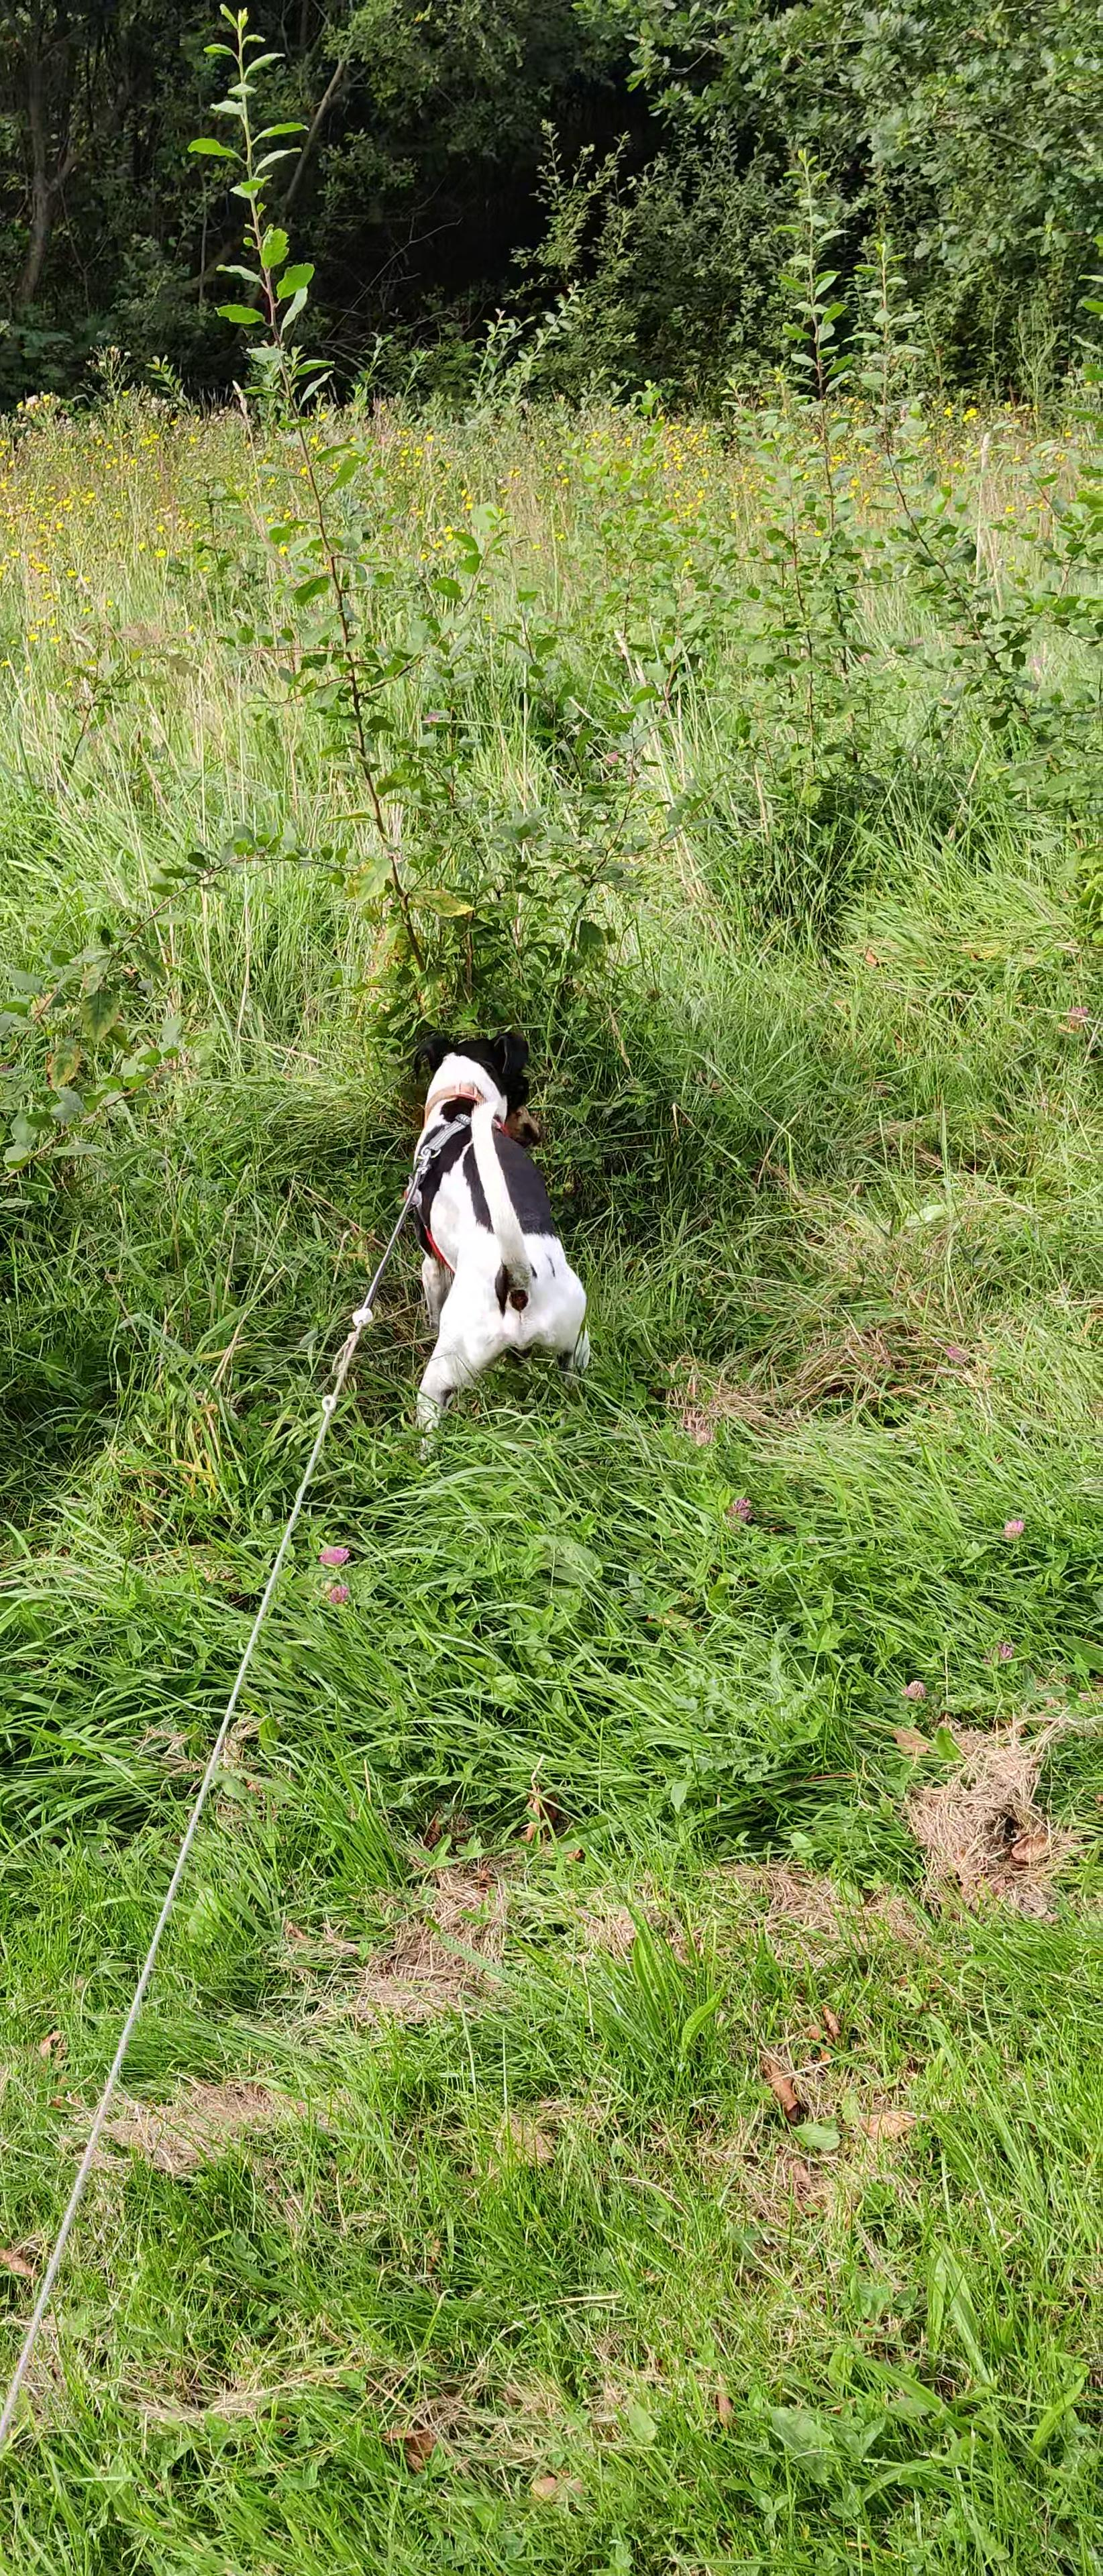Dog: (368, 1025, 613, 1460)
